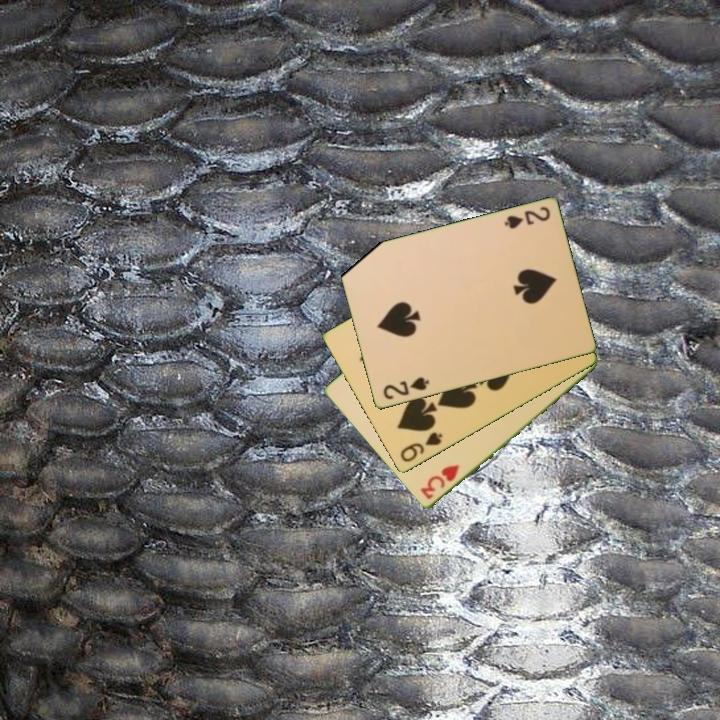2s: (379, 374, 432, 403), (500, 203, 553, 232)
3h: (417, 461, 463, 503)
9s: (397, 428, 445, 465)
